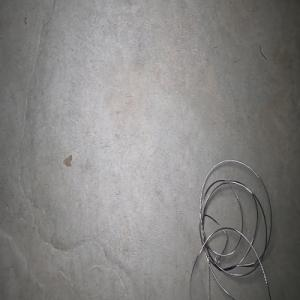Wire: (189, 158, 272, 300)
